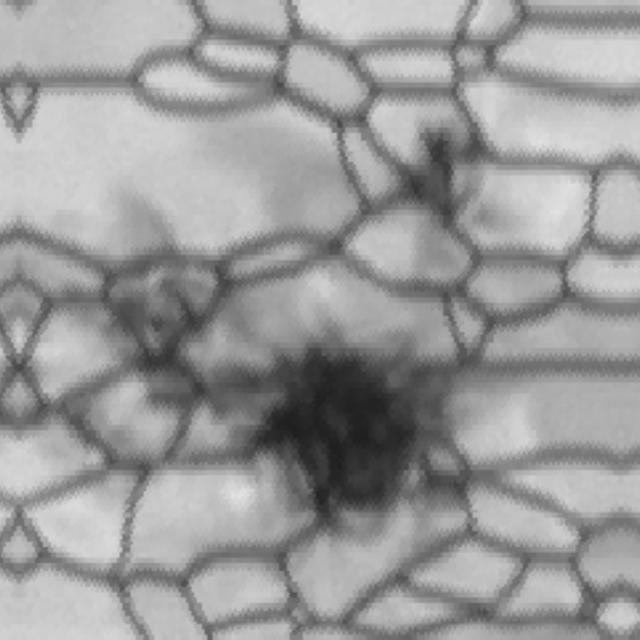good_void: (230, 313, 474, 551), (96, 245, 251, 421), (382, 110, 491, 236)
